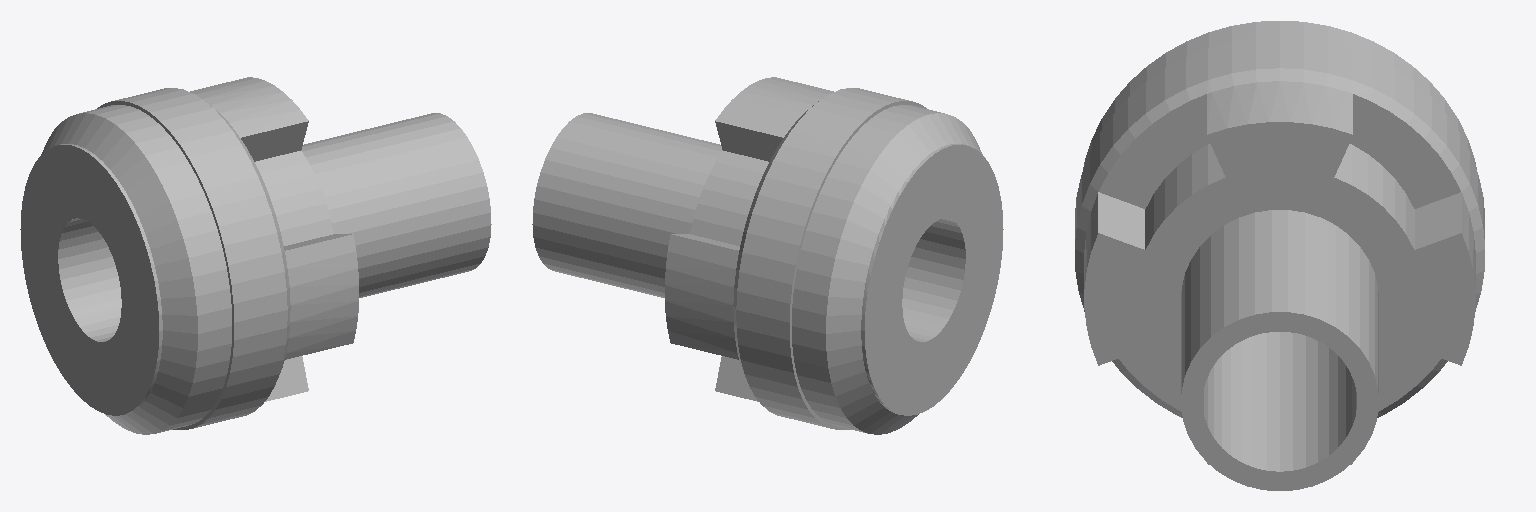
robot.urdf — root:
<?xml version='1.0' encoding='utf-8'?>
<robot name="root">
  <link name="link_001">
    <visual>
      <origin xyz="0 0 0" rpy="0 0 0" />
      <geometry>
        <mesh filename="8bf022a23da392d21d359fea78adcdd99458d7b7de87af1a57503fa5a2e43bc1_scale_000.stl" scale="1.0000E+00 1.0000E+00 1.0000E+00" />
      </geometry>
      <material name="">
        <color rgba="7.50E-01 7.50E-01 7.50E-01 1" />
      </material>
    </visual>
    <collision>
      <origin xyz="0 0 0" rpy="0 0 0" />
      <geometry>
        <mesh filename="8bf022a23da392d21d359fea78adcdd99458d7b7de87af1a57503fa5a2e43bc1_scale_000.stl" scale="1.0000E+00 1.0000E+00 1.0000E+00" />
      </geometry>
    </collision>
  </link>
</robot>

--- What the picture shows (computed from the rendered views, not written in the file) ---
The picture shows the robot from 3 angles, left to right: view 1: azimuth 30°, elevation 25°; view 2: azimuth 150°, elevation 25°; view 3: azimuth 270°, elevation 25°; orthographic projection.
Model root with 1 links and 0 joints (none), rooted at link_001, posed every joint at zero.
Visible links, largest first — view 1: link_001; view 2: link_001; view 3: link_001.
Boxes of the visible links, x1=… form: link_001: x1=20, y1=77, x2=491, y2=434; link_001: x1=532, y1=77, x2=1003, y2=434; link_001: x1=1075, y1=21, x2=1484, y2=490.
Bounding box of the posed robot: 0.12 × 0.0971 × 0.097 m (x, y, z).
Meshes: 1 distinct files referenced, 1 mesh visuals loaded (1 binary STL).
